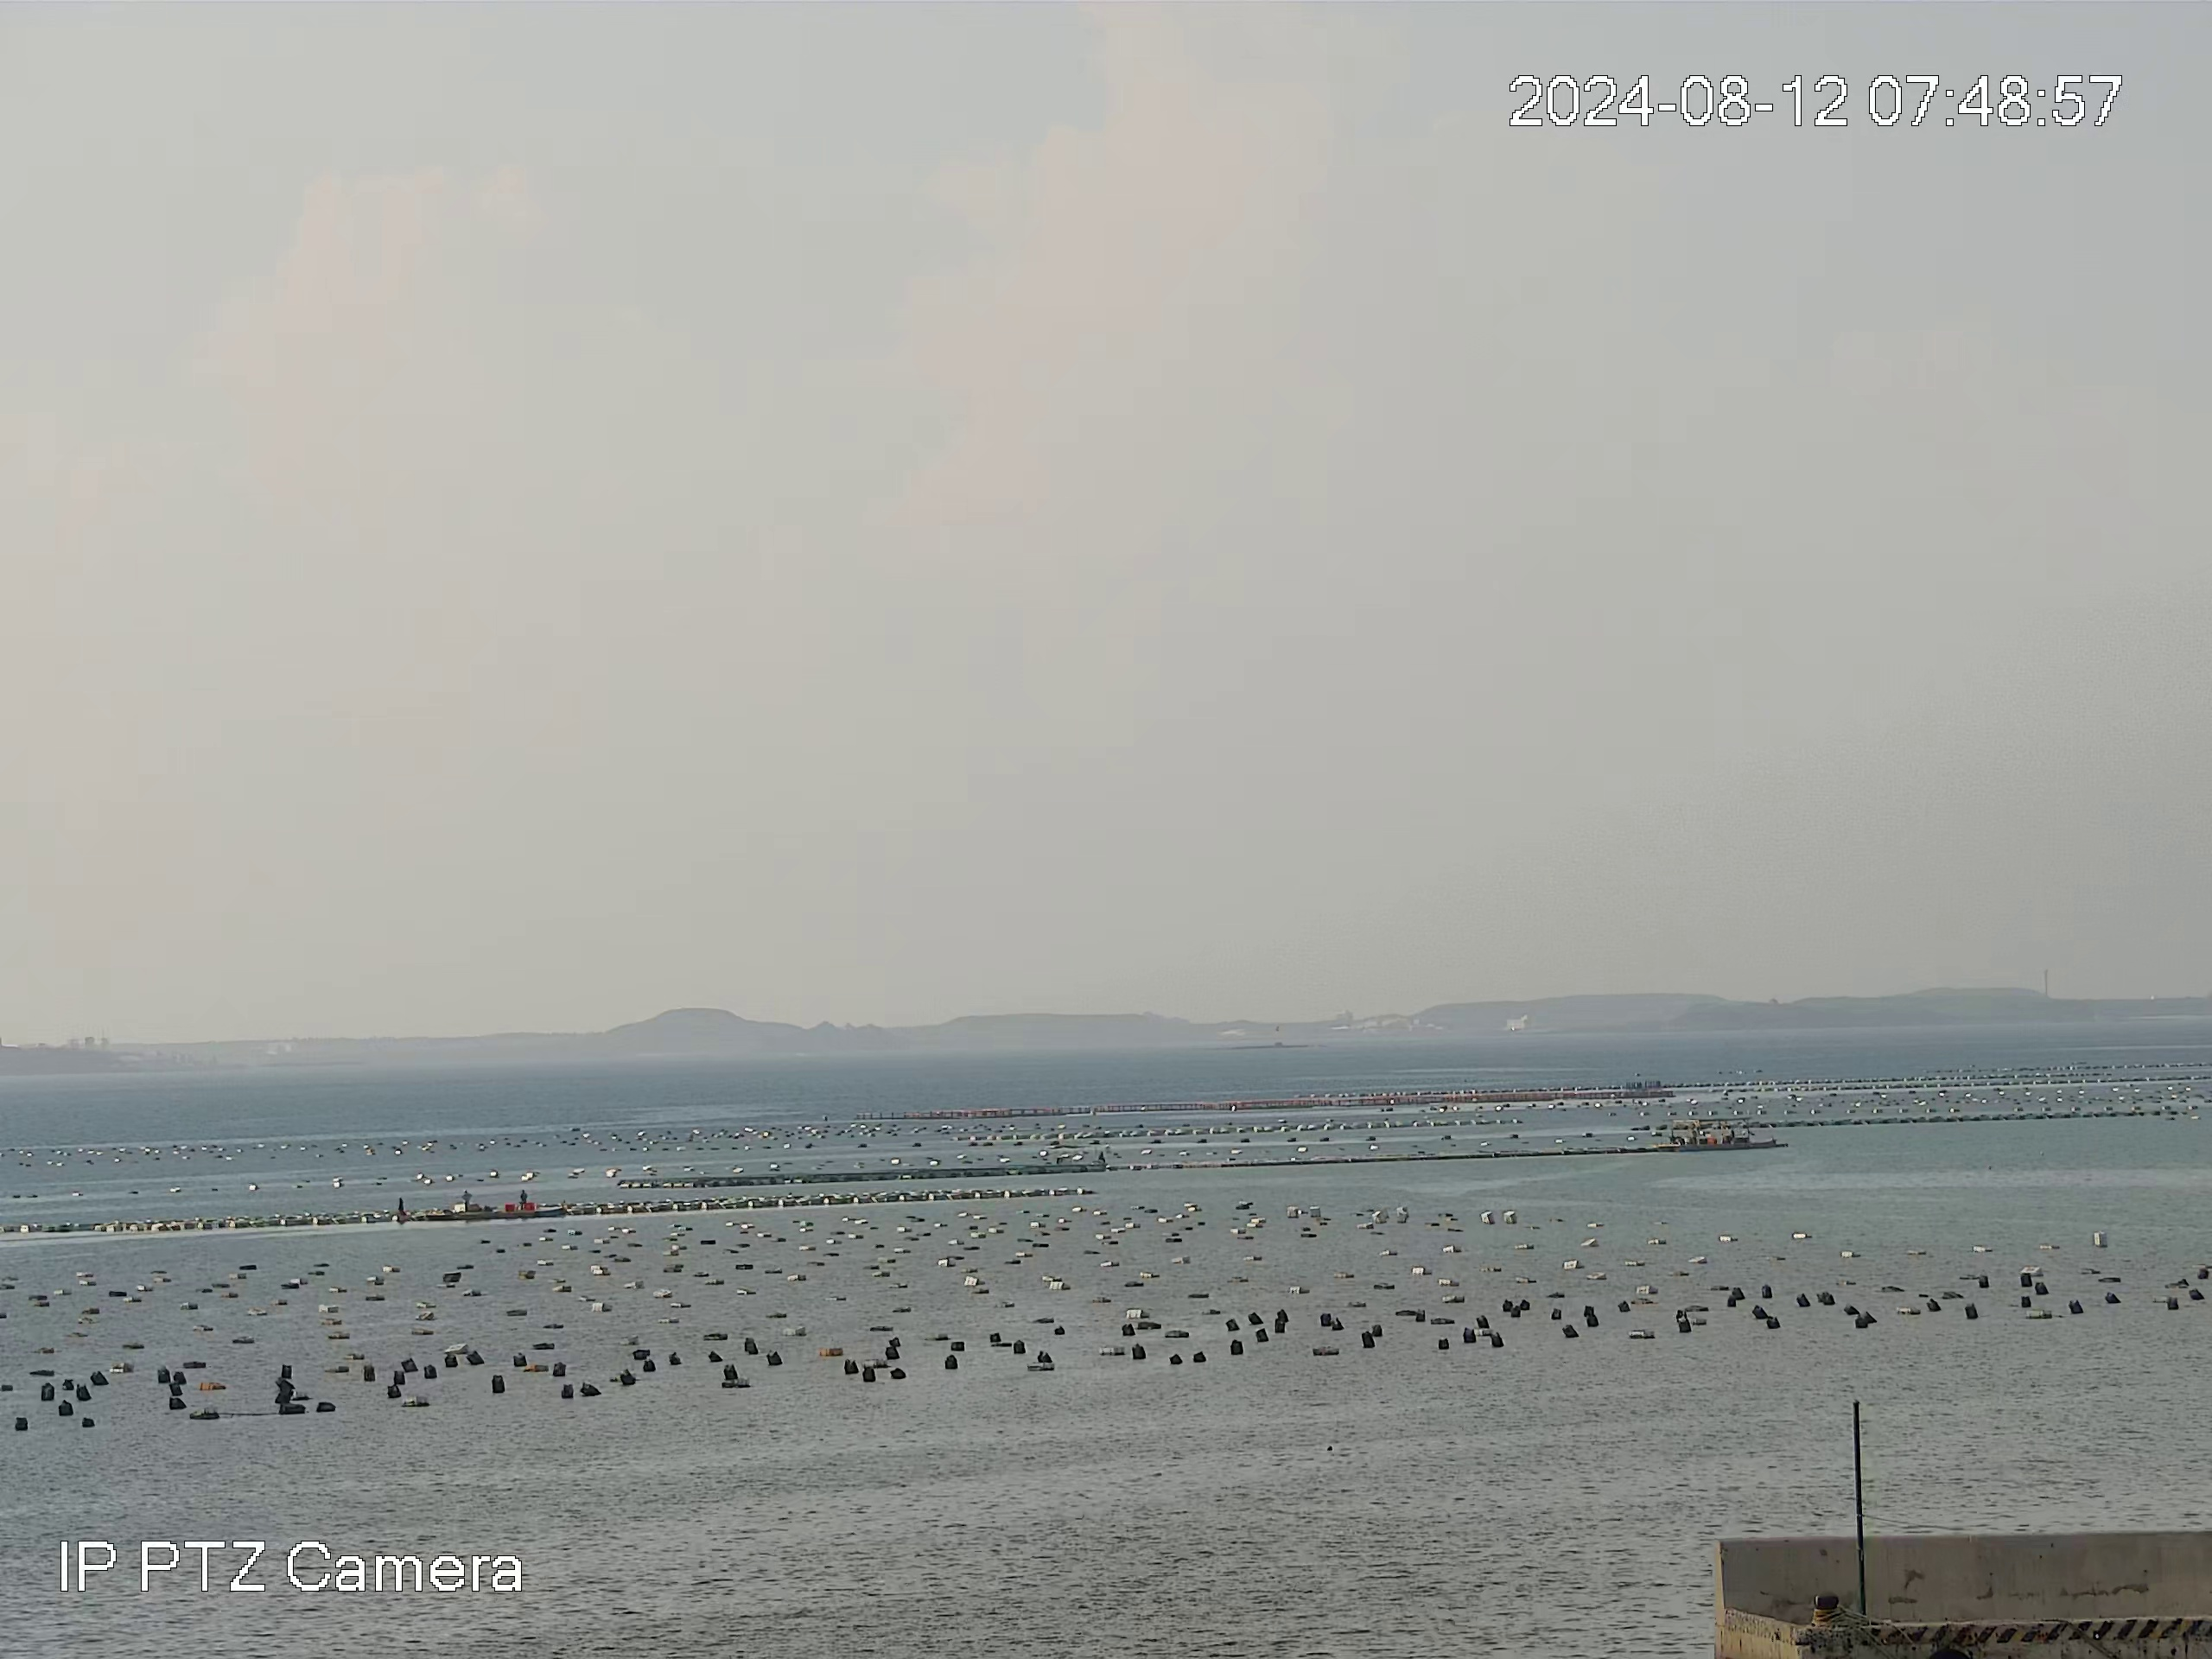boat: (394, 1189, 567, 1220), (1655, 1116, 1783, 1153)
